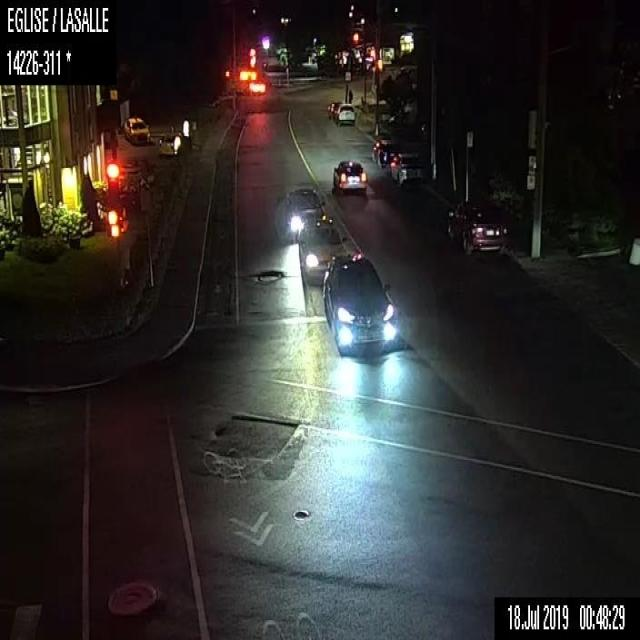pedestrian: (347, 86, 352, 104)
vehicle: (320, 250, 397, 361), (442, 199, 509, 253), (297, 219, 347, 285), (284, 186, 326, 242), (331, 157, 368, 191), (389, 151, 424, 184), (370, 134, 399, 167), (123, 115, 150, 142), (157, 131, 178, 153), (336, 102, 356, 123), (326, 99, 342, 118)
